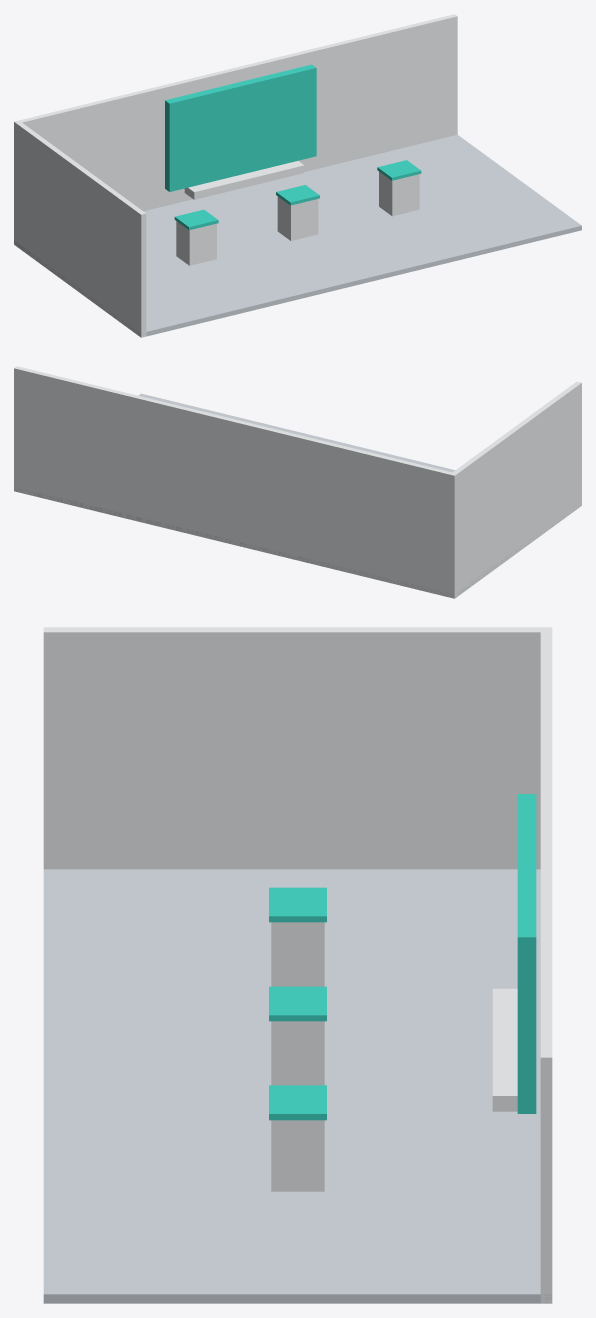
The picture shows the model from 3 angles, top to bottom: view 1: azimuth 30°, elevation 25°; view 2: azimuth 150°, elevation 25°; view 3: azimuth 270°, elevation 25°; orthographic projection. The views are drawn at different scales.
Visible parts, largest first — view 1: Exhibition Booth Concept; view 2: Exhibition Booth Concept; view 3: Exhibition Booth Concept.
Part boxes in pixels (x1=…): Exhibition Booth Concept: x1=14, y1=14, x2=581, y2=337; Exhibition Booth Concept: x1=14, y1=366, x2=581, y2=598; Exhibition Booth Concept: x1=43, y1=627, x2=552, y2=1303.
Bounding box in the file's own units: 12 × 3.2 × 6.
